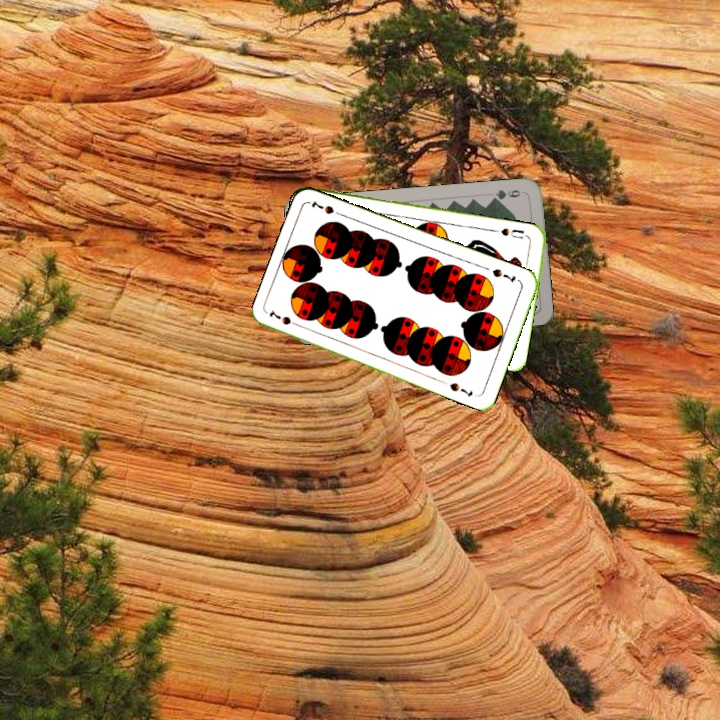G9: (487, 186, 527, 203)
S7: (265, 306, 304, 330), (488, 264, 518, 285)
SU: (491, 224, 531, 241)
